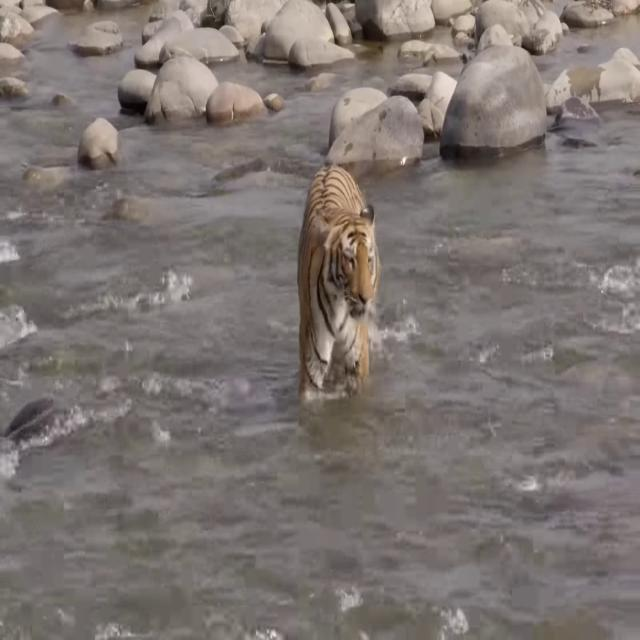tiger: (298, 165, 380, 398)
